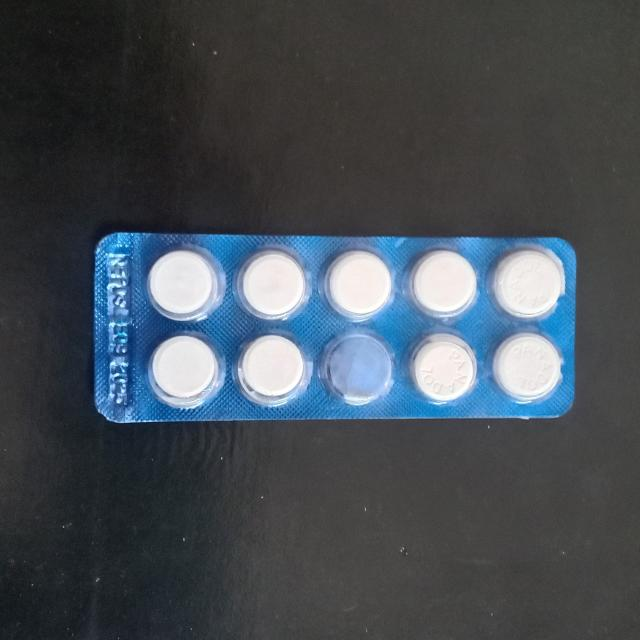defect: (317, 326, 398, 409)
